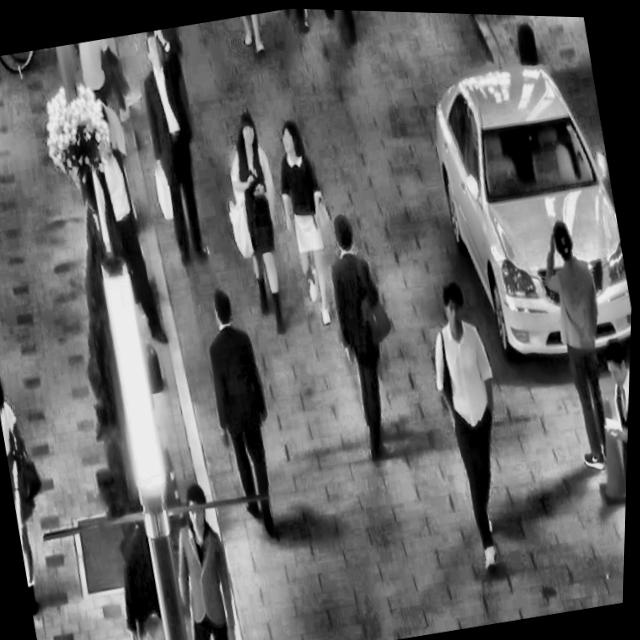light_vehicle: (409, 27, 640, 382)
